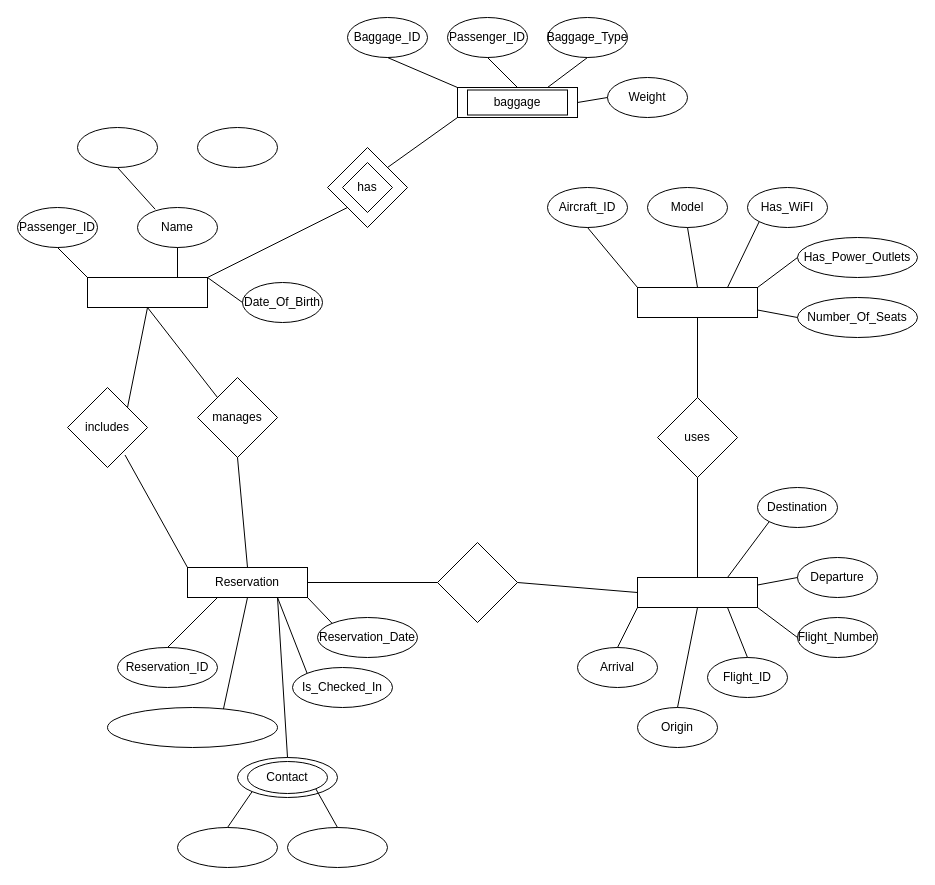
This 935x885 diagram has some shape labels left out. The centre of each missing label's shape, as x and y in pixels:
Aircraft: the point at 697,302
Booking_Reference_Number: the point at 192,727
Email: the point at 227,847
First Name: the point at 117,147
Flight: the point at 697,592
is for: the point at 477,582
Last Name: the point at 237,147
Passenger: the point at 147,292
Phone: the point at 337,847
